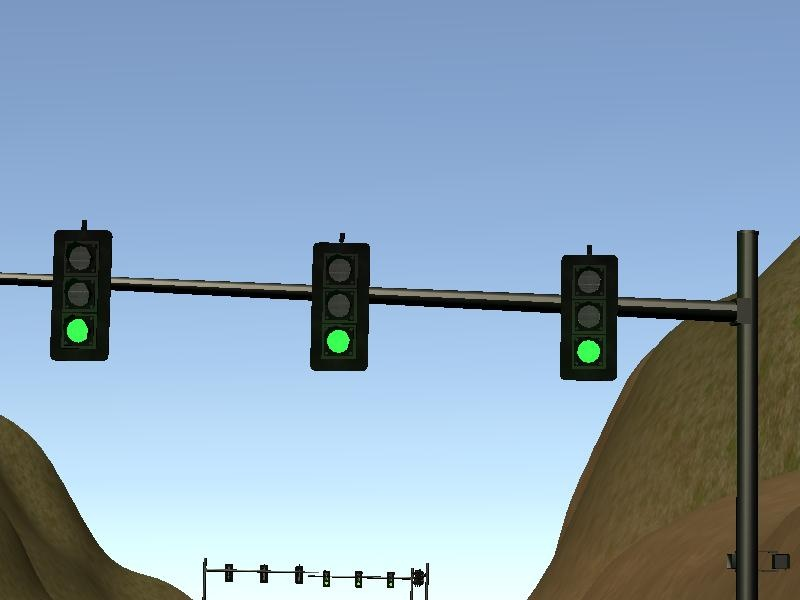green: (48, 226, 115, 368), (309, 241, 375, 378), (559, 252, 622, 382)
